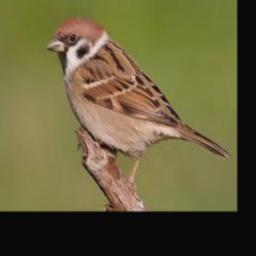Sparrow: (45, 18, 230, 182)
